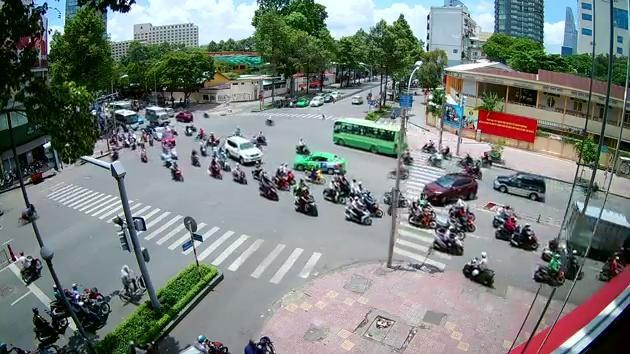xe buyt: (332, 117, 405, 158)
xe dap: (117, 262, 149, 301)
xe hoi: (420, 171, 477, 205), (295, 150, 345, 173), (224, 134, 262, 164)
xe may: (491, 170, 546, 204), (30, 306, 68, 344), (73, 293, 110, 328), (461, 250, 494, 289), (531, 252, 564, 284), (433, 225, 463, 256), (17, 249, 42, 285), (343, 195, 370, 225), (294, 184, 318, 217), (510, 222, 537, 249), (561, 247, 583, 280), (493, 215, 520, 241), (255, 172, 278, 202), (302, 165, 326, 185), (271, 166, 291, 190), (277, 161, 295, 184), (205, 155, 221, 180), (230, 162, 246, 183), (169, 159, 183, 181), (294, 136, 310, 153), (188, 146, 200, 167)
xe tai: (564, 200, 630, 259)
